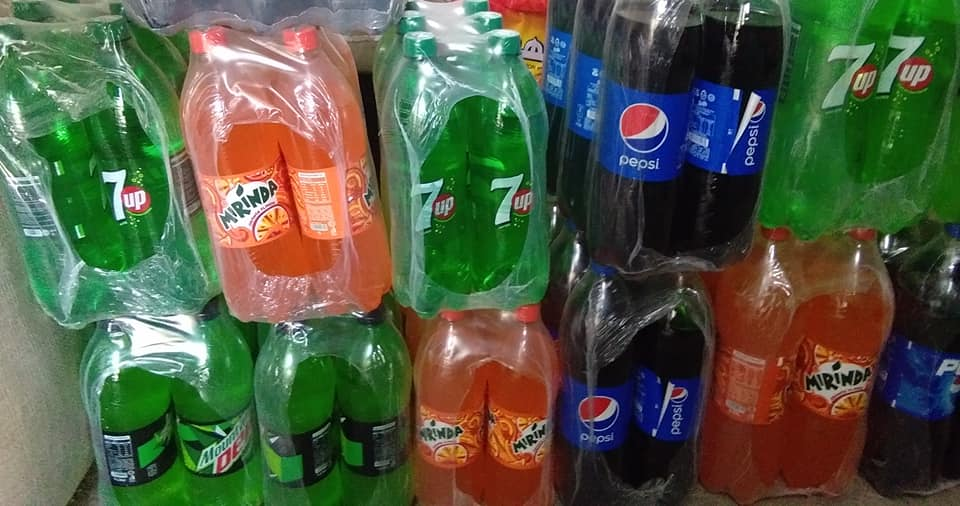7up: (817, 39, 877, 112), (879, 34, 935, 99), (484, 169, 534, 229), (101, 168, 153, 223), (409, 176, 458, 234)
mirinda: (214, 179, 281, 227), (800, 367, 872, 395), (416, 421, 464, 444)
mountaindew: (197, 423, 254, 473)
pepsi: (614, 100, 670, 156), (575, 394, 619, 433), (747, 102, 767, 121), (669, 387, 688, 404)
